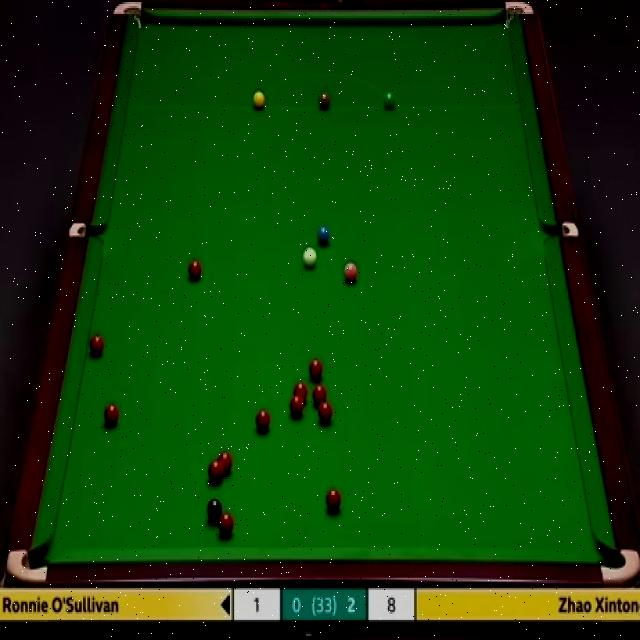black-ball: (206, 498, 223, 524)
blue-ball: (316, 224, 332, 248)
brown-ball: (318, 91, 331, 112)
green-ball: (381, 91, 395, 112)
pink-ball: (342, 258, 361, 286)
red-ball: (217, 512, 235, 539), (206, 460, 225, 485), (103, 401, 119, 429), (88, 332, 104, 358), (325, 488, 341, 513), (256, 410, 272, 434), (288, 395, 304, 419), (308, 357, 324, 381), (187, 258, 203, 281), (218, 450, 234, 472), (318, 401, 333, 424), (292, 381, 308, 402), (312, 385, 328, 404)
white-ball: (302, 244, 318, 271)
yellow-ball: (252, 90, 266, 111)
